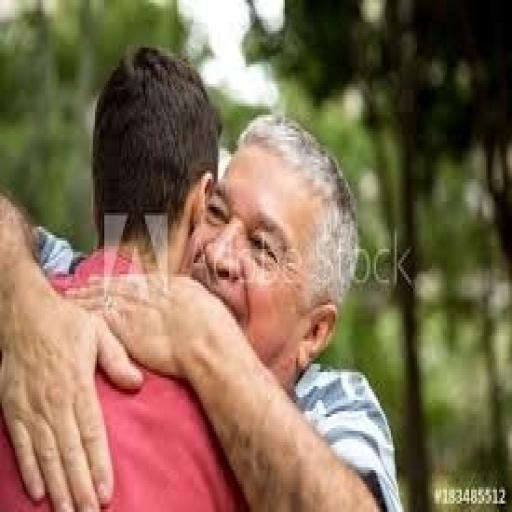hugging: (0, 42, 404, 509)
